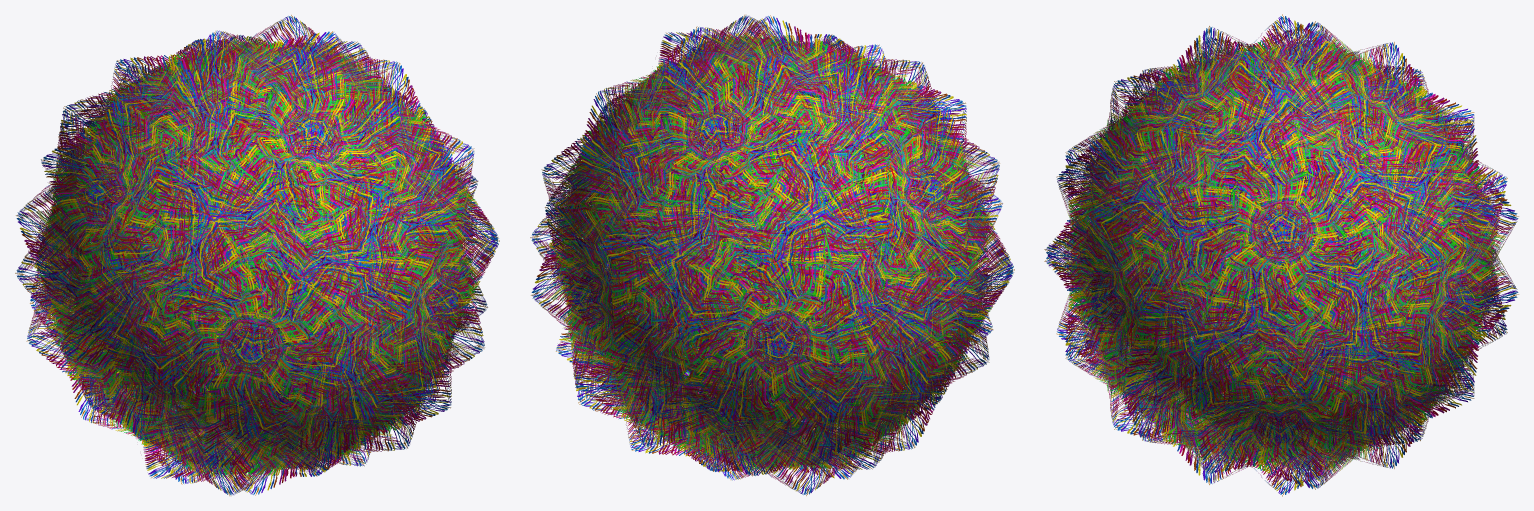
The model's file is 14GreatPentagonalHexecontahedron.gltf.
3 views of the same model, side by side, from view 1: azimuth 30°, elevation 25°; view 2: azimuth 150°, elevation 25°; view 3: azimuth 270°, elevation 25° (orthographic).
Visible parts, largest first — view 1: 7GreatPentagonalHexecontahedron; view 2: 7GreatPentagonalHexecontahedron; view 3: 7GreatPentagonalHexecontahedron.
Part boxes in pixels (x1=…): 7GreatPentagonalHexecontahedron: x1=15, y1=15, x2=499, y2=495; 7GreatPentagonalHexecontahedron: x1=530, y1=15, x2=1014, y2=495; 7GreatPentagonalHexecontahedron: x1=1044, y1=14, x2=1518, y2=496.
Bounding box in the file's own units: 1.42 × 1.42 × 1.42.
1 material, 1 textured.
